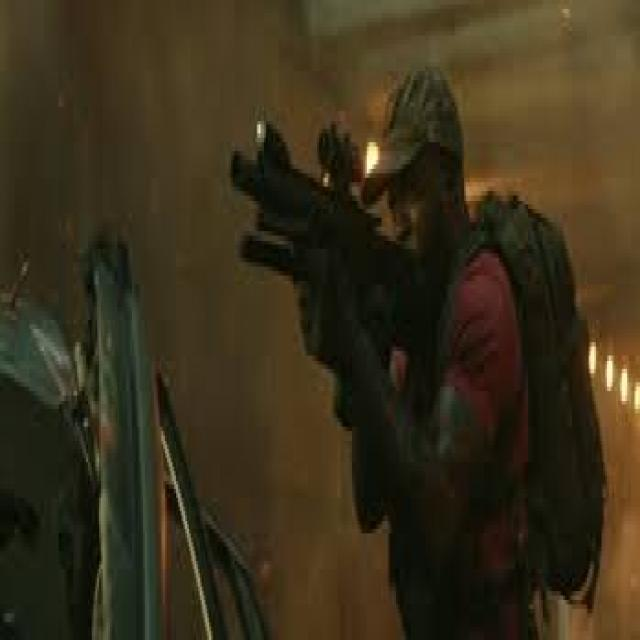weapon: (232, 113, 424, 376)
